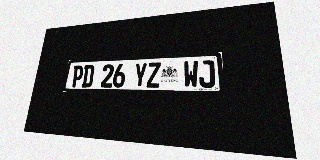2: (100, 64, 114, 87)
6: (112, 63, 126, 87)
D: (81, 65, 95, 87)
J: (199, 60, 215, 88)
P: (71, 65, 84, 87)
W: (183, 61, 198, 88)
Y: (133, 63, 147, 87)
Z: (146, 62, 161, 88)
